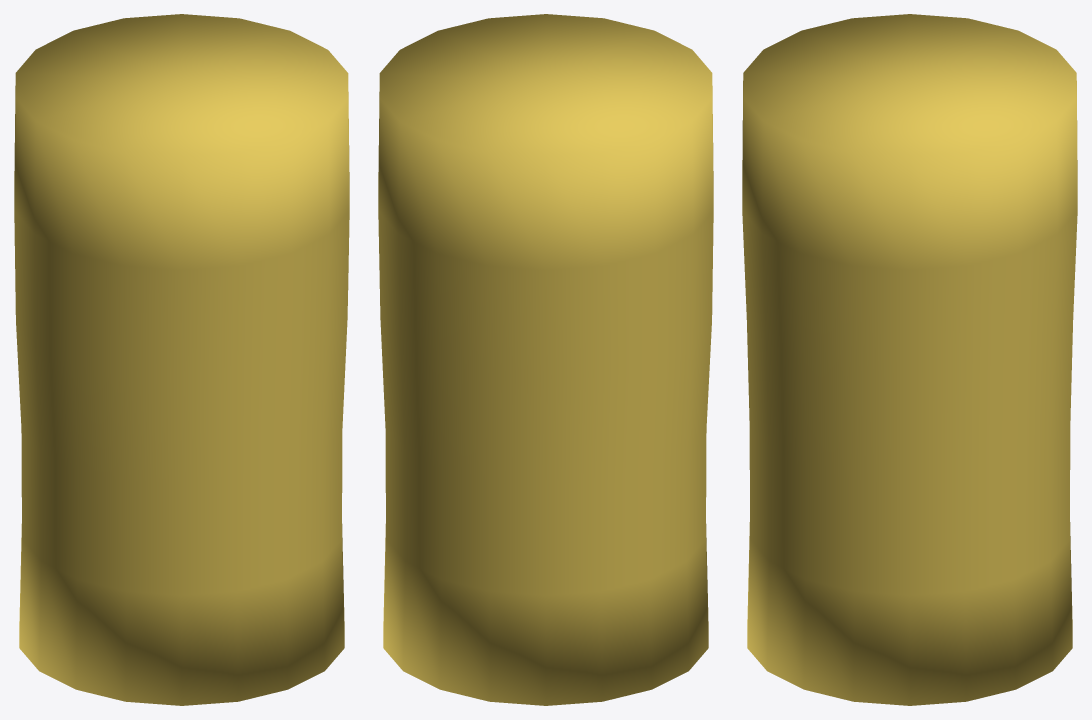
Rendered from wood.FBX.
3 views of the same model, side by side, from view 1: azimuth 30°, elevation 25°; view 2: azimuth 150°, elevation 25°; view 3: azimuth 270°, elevation 25° (orthographic).
Visible parts, largest first — view 1: wood; view 2: wood; view 3: wood.
Part boxes in pixels (bbox=[...]): wood: bbox=[14, 14, 349, 705]; wood: bbox=[378, 14, 713, 705]; wood: bbox=[742, 14, 1077, 705].
Bounding box in the file's own units: 50.75 × 91.05 × 49.98.
